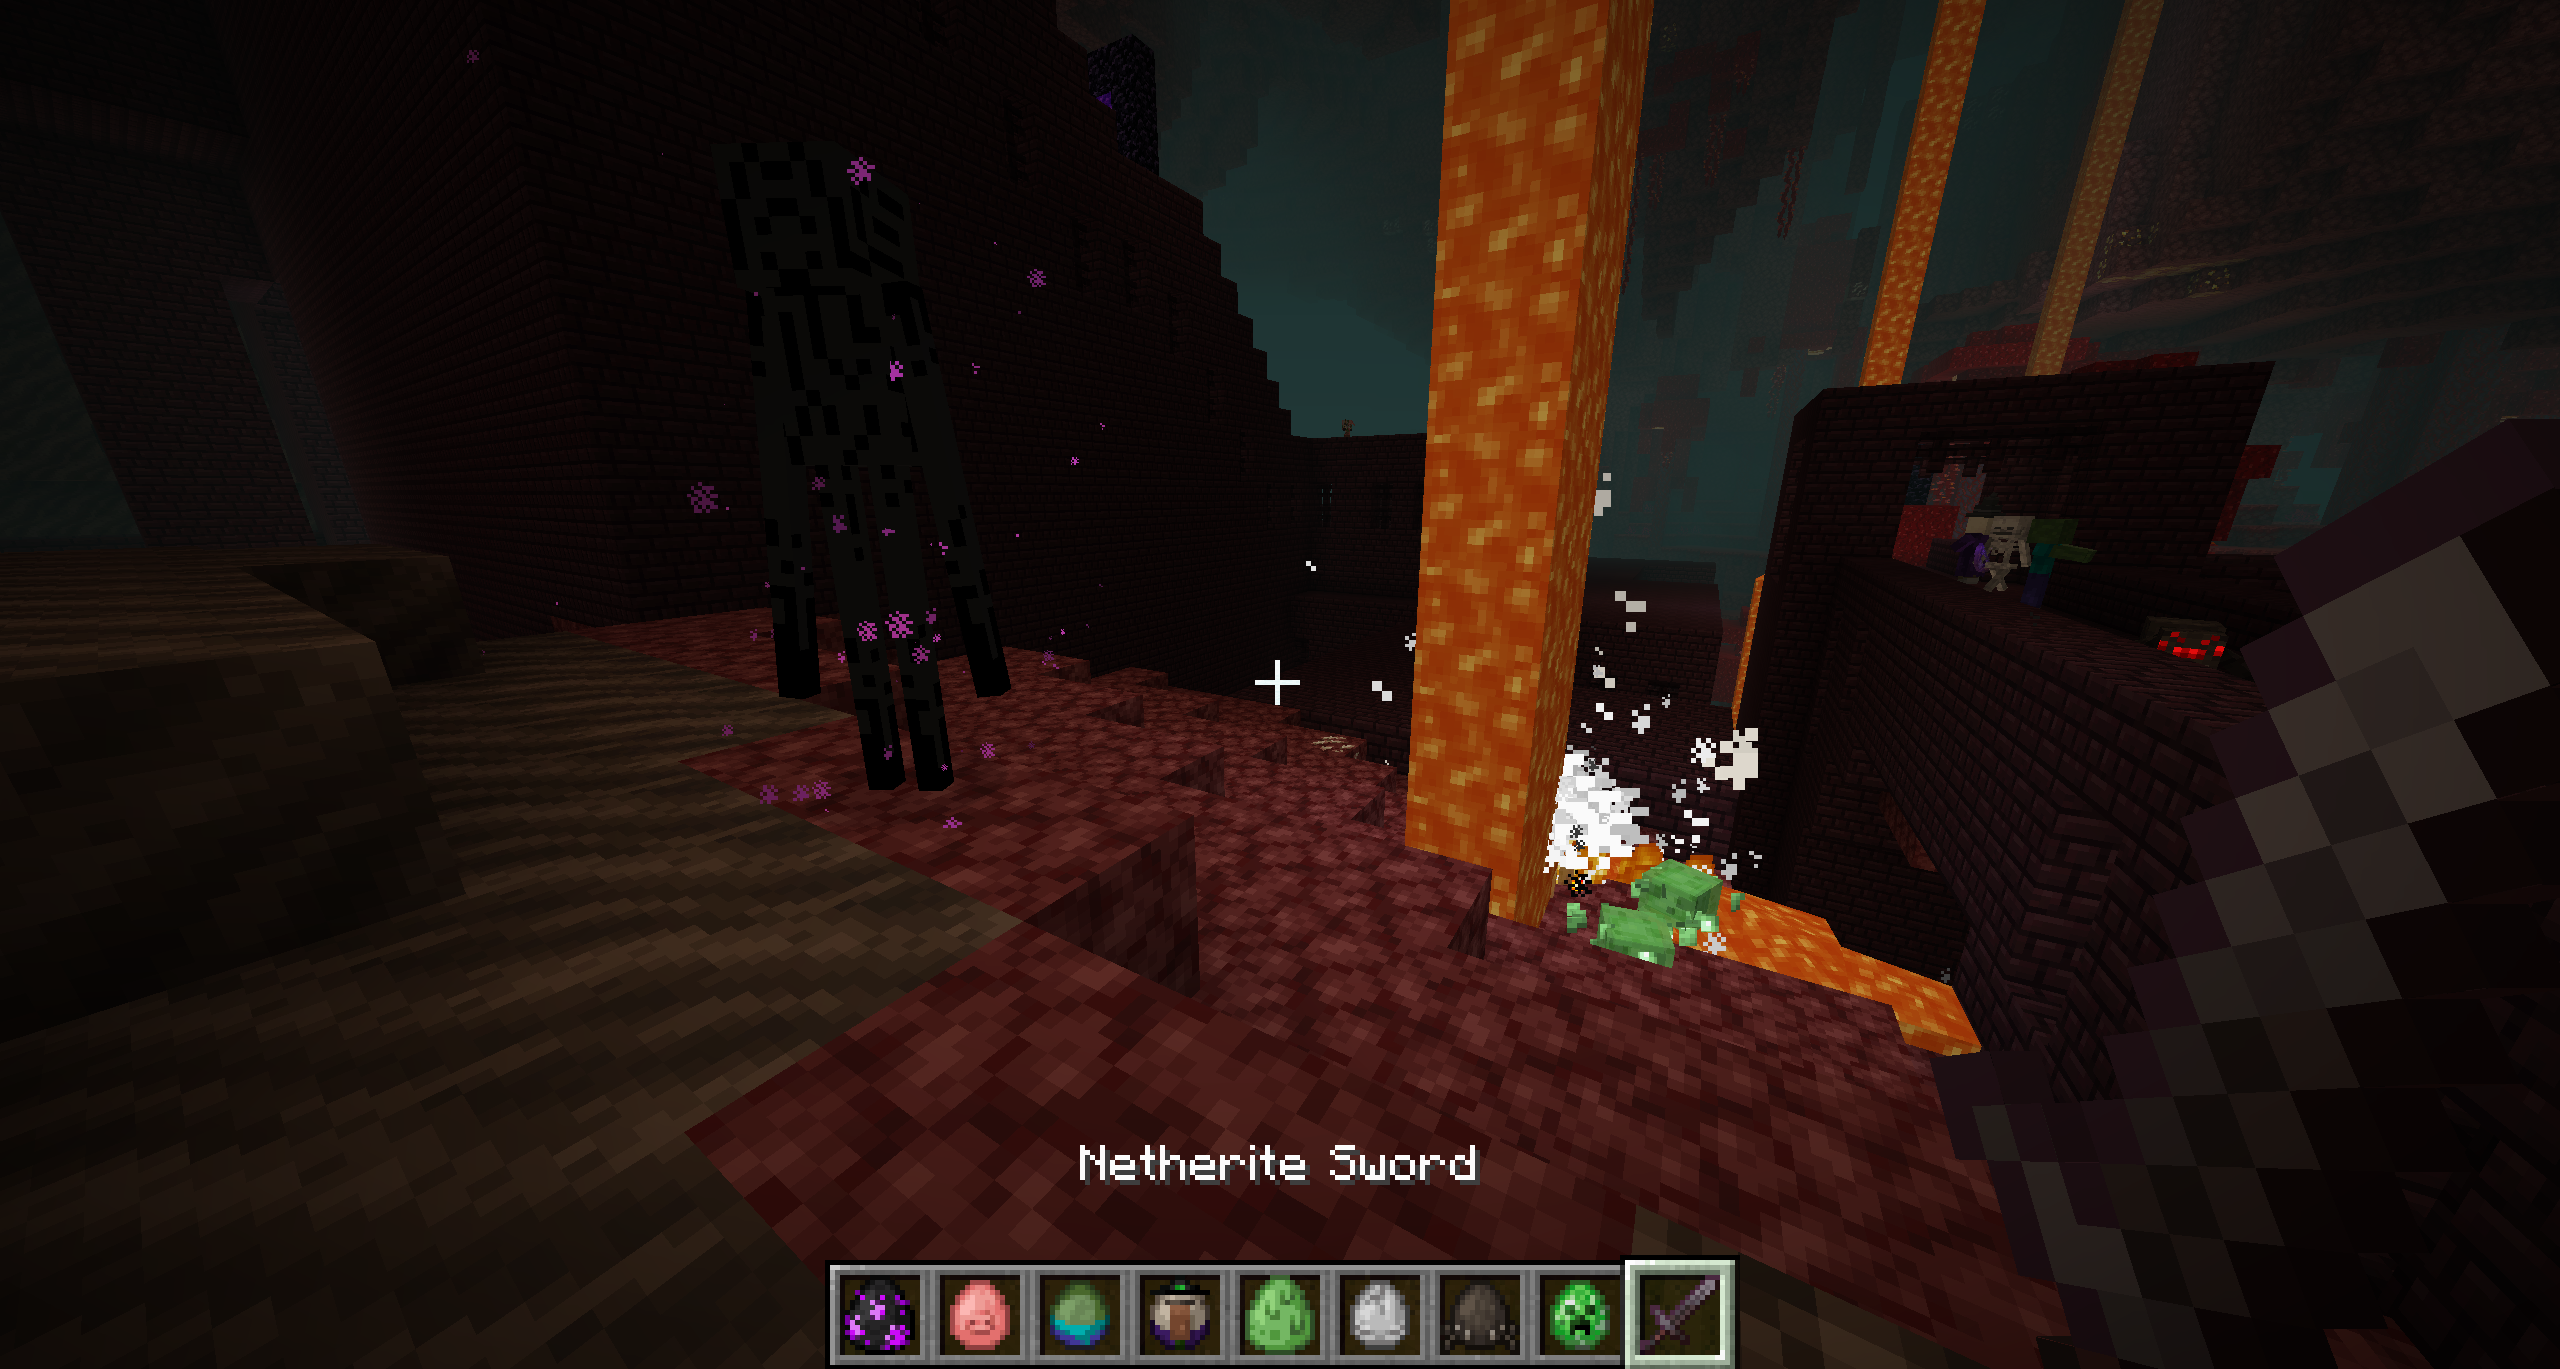araignees: (2125, 599, 2243, 680)
endermens: (718, 135, 1014, 805)
sorcieres: (1966, 503, 1989, 584)
squelettes: (1989, 520, 2030, 592)
zombies: (2033, 520, 2086, 606)
